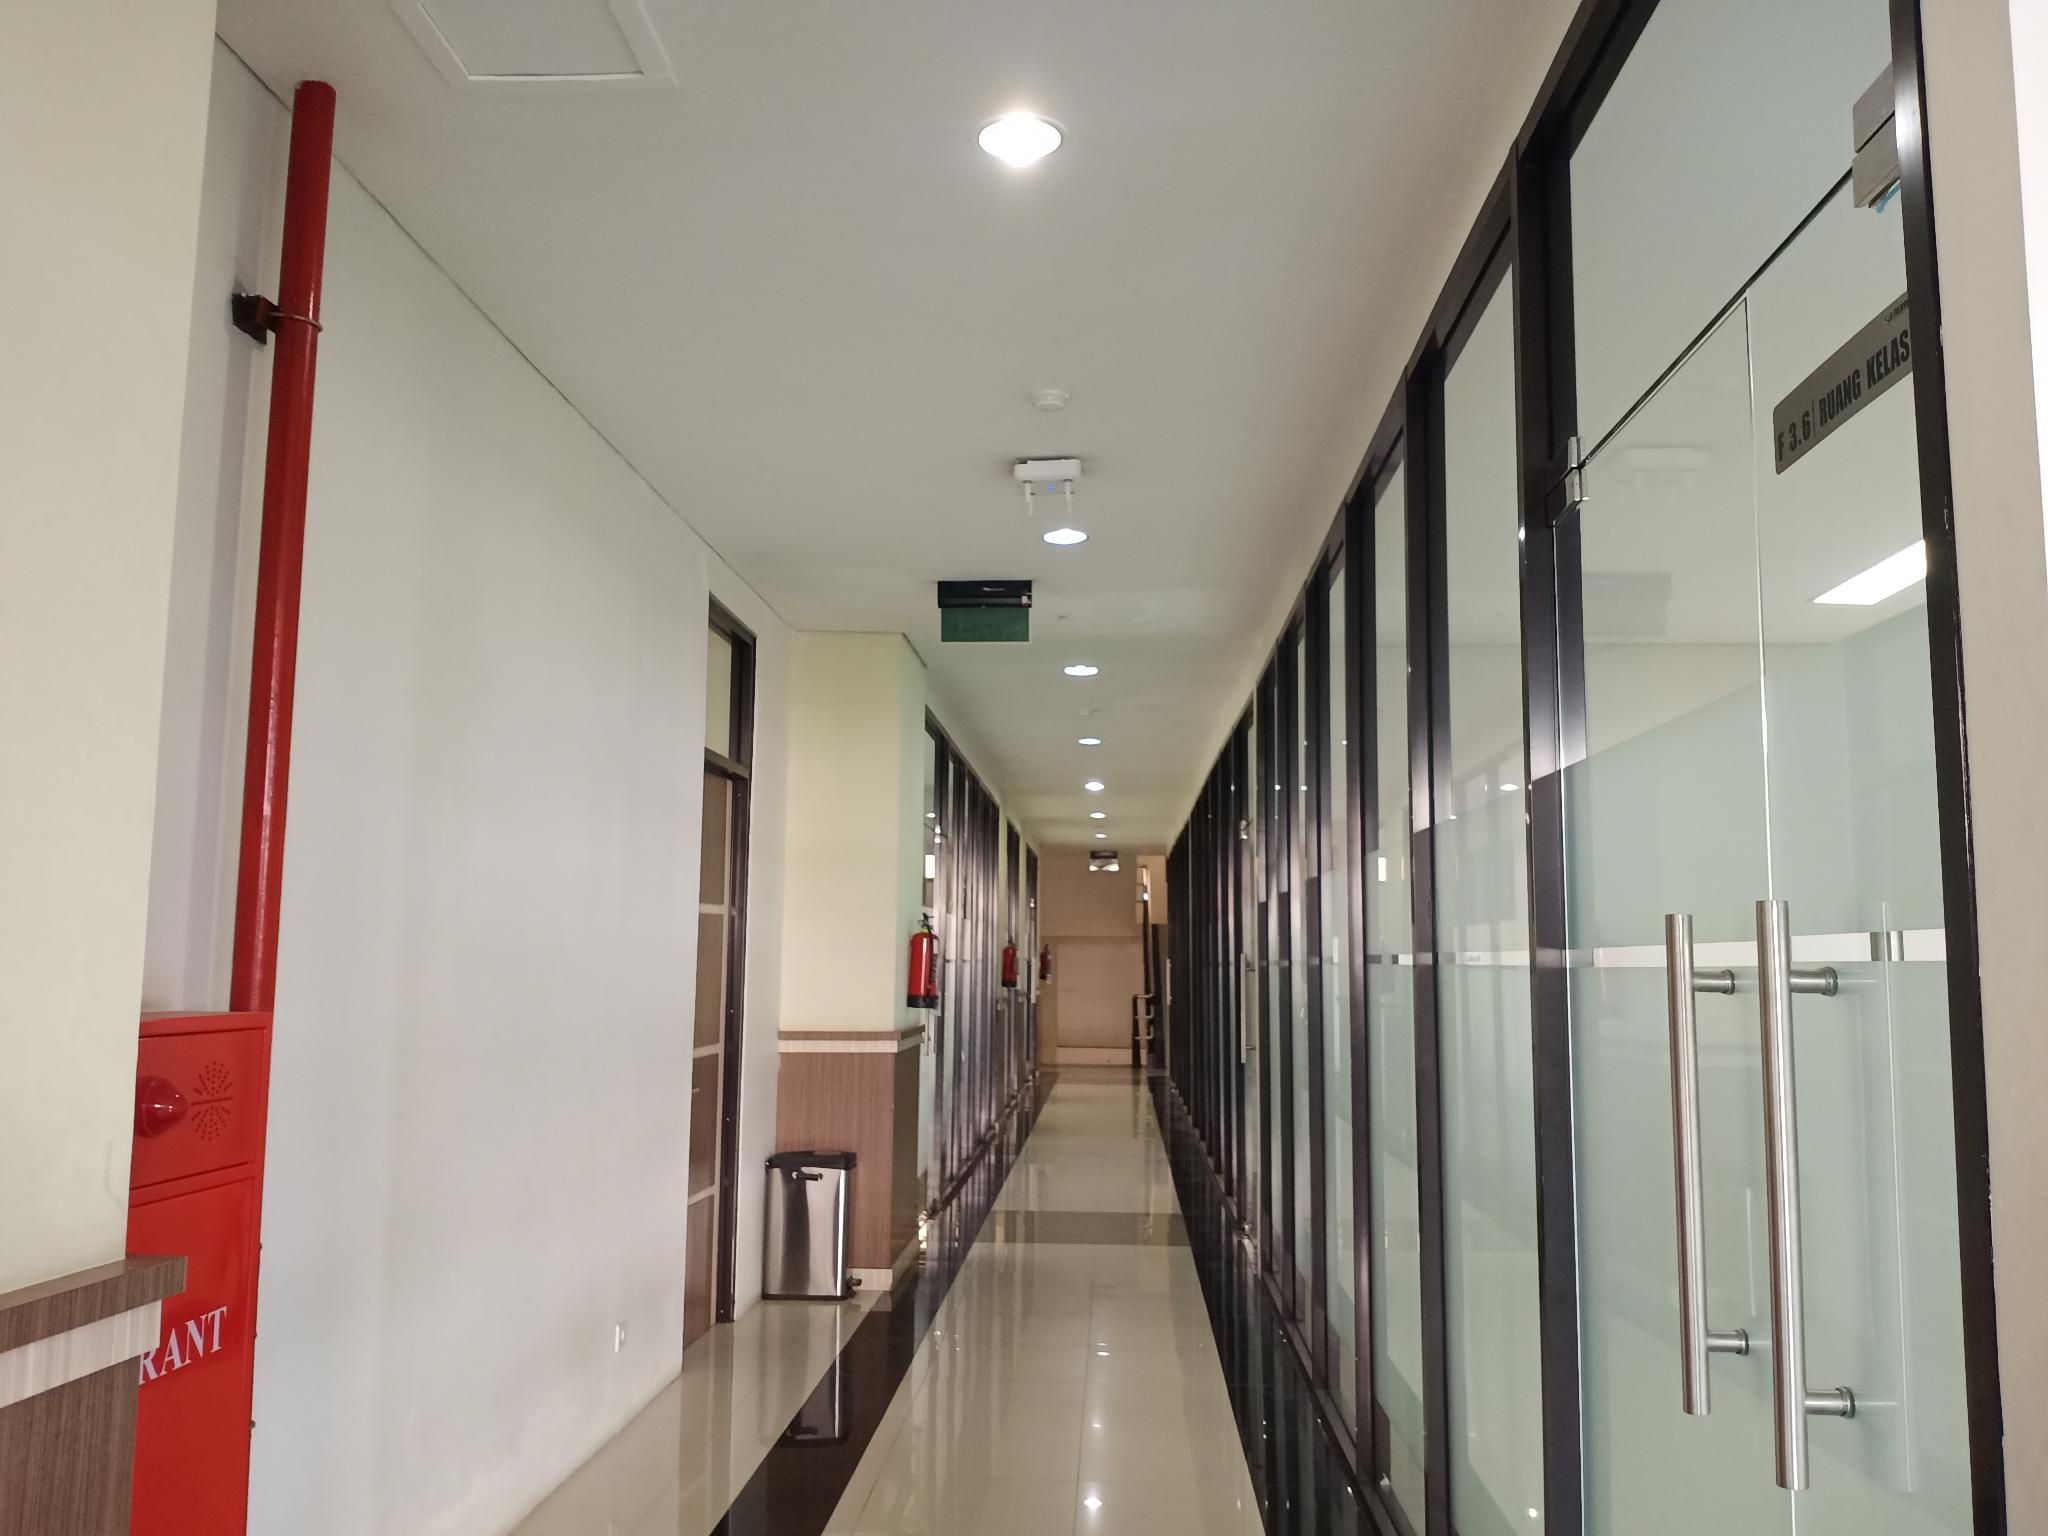plate: (1771, 292, 1913, 474)
